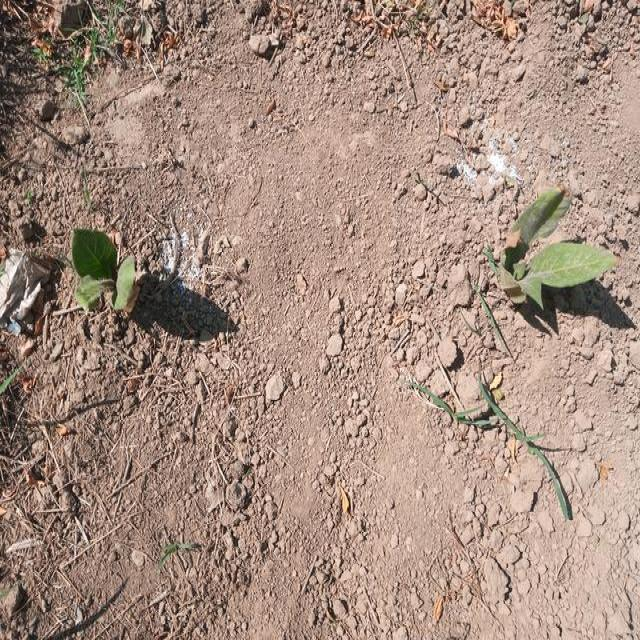crop: (497, 191, 614, 315), (76, 224, 135, 315)
